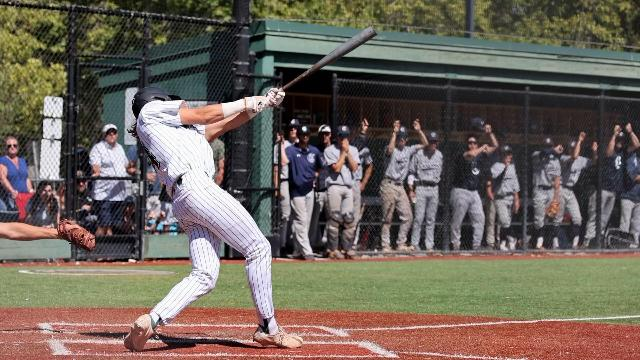bat: (277, 26, 378, 92)
